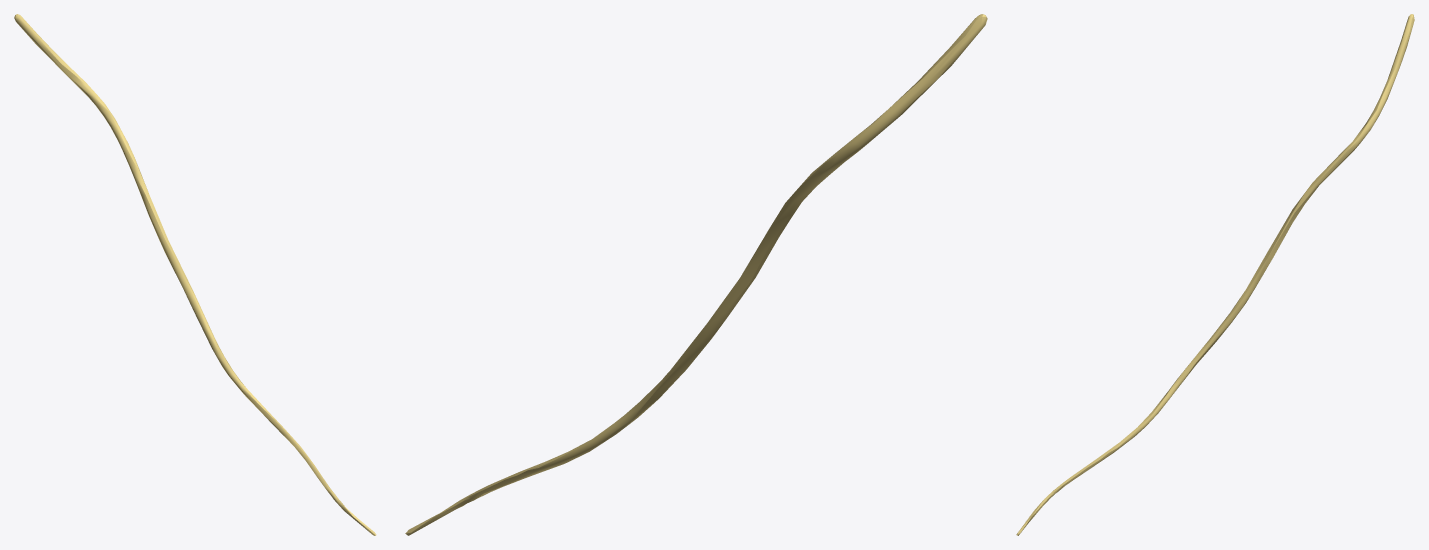
The model's file is fma44986_fj4271.glb.
3 views of the same model, side by side, from view 1: azimuth 30°, elevation 25°; view 2: azimuth 210°, elevation 25°; view 3: azimuth 270°, elevation 25° (orthographic). The views are drawn at different scales.
Parts seen in each view (by area): view 1: FMA44986_FJ4271; view 2: FMA44986_FJ4271; view 3: FMA44986_FJ4271.
Part boxes in pixels (bbox=[...]): FMA44986_FJ4271: bbox=[14, 14, 376, 535]; FMA44986_FJ4271: bbox=[405, 14, 987, 535]; FMA44986_FJ4271: bbox=[1016, 14, 1414, 535].
Bounding box in the file's own units: 0.0268 × 0.0633 × 0.0522.
